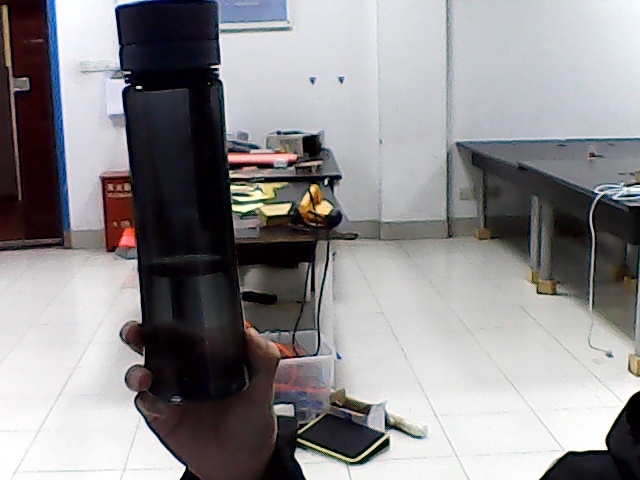cup: (153, 33, 223, 386)
